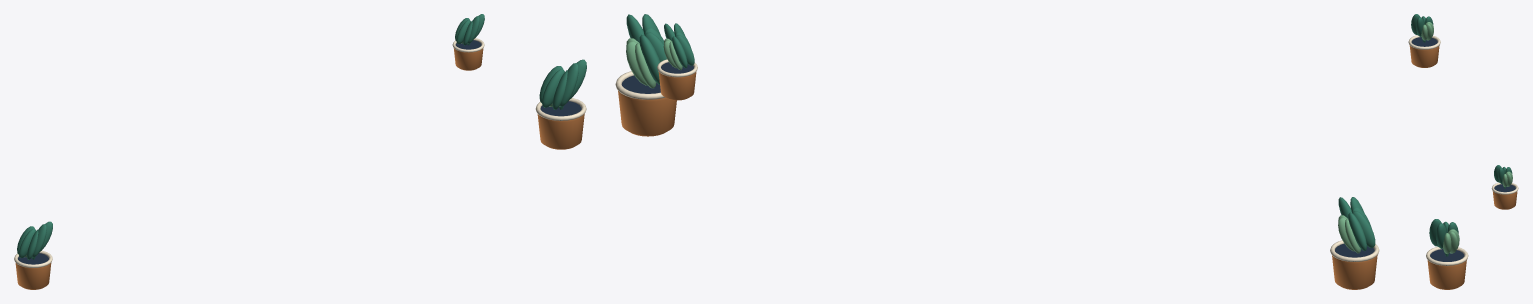
Rendered from planters.glb.
3 views of the same model, side by side, from view 1: azimuth 30°, elevation 25°; view 2: azimuth 150°, elevation 25°; view 3: azimuth 270°, elevation 25° (orthographic). The views are drawn at different scales.
Parts seen in each view (by area): view 1: planters_mesh; view 2: planters_mesh; view 3: planters_mesh.
Boxes of the visible parts, x1,y1,x2,y2 form: planters_mesh: (14,14,586,289); planters_mesh: (615,14,1379,289); planters_mesh: (1408,14,1518,289).
Size of the model in its own units: 7.92 by 1.53 by 1.56.
